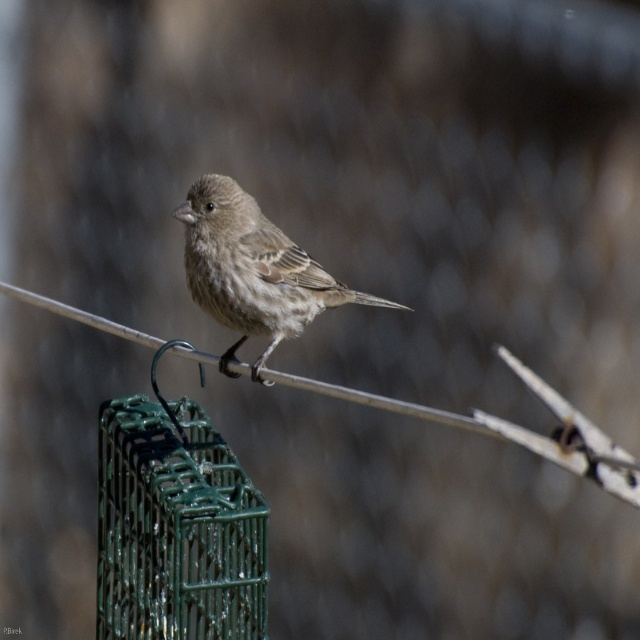Sparrow: (172, 172, 412, 387)
